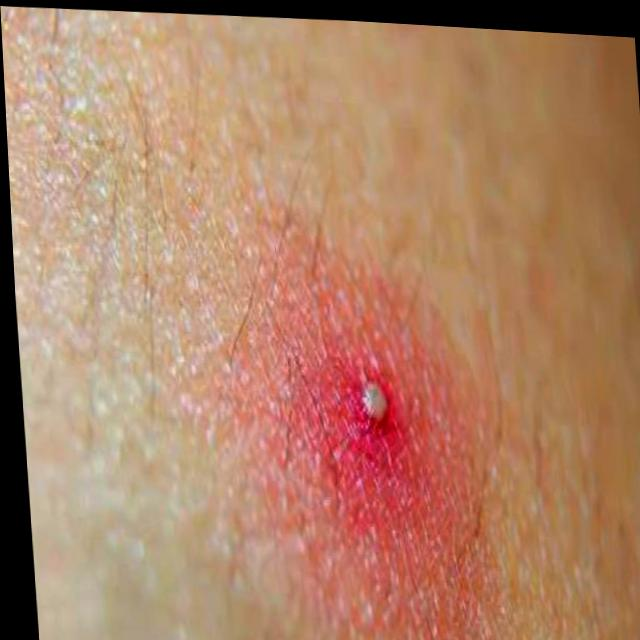pustule: (326, 308, 422, 475)
